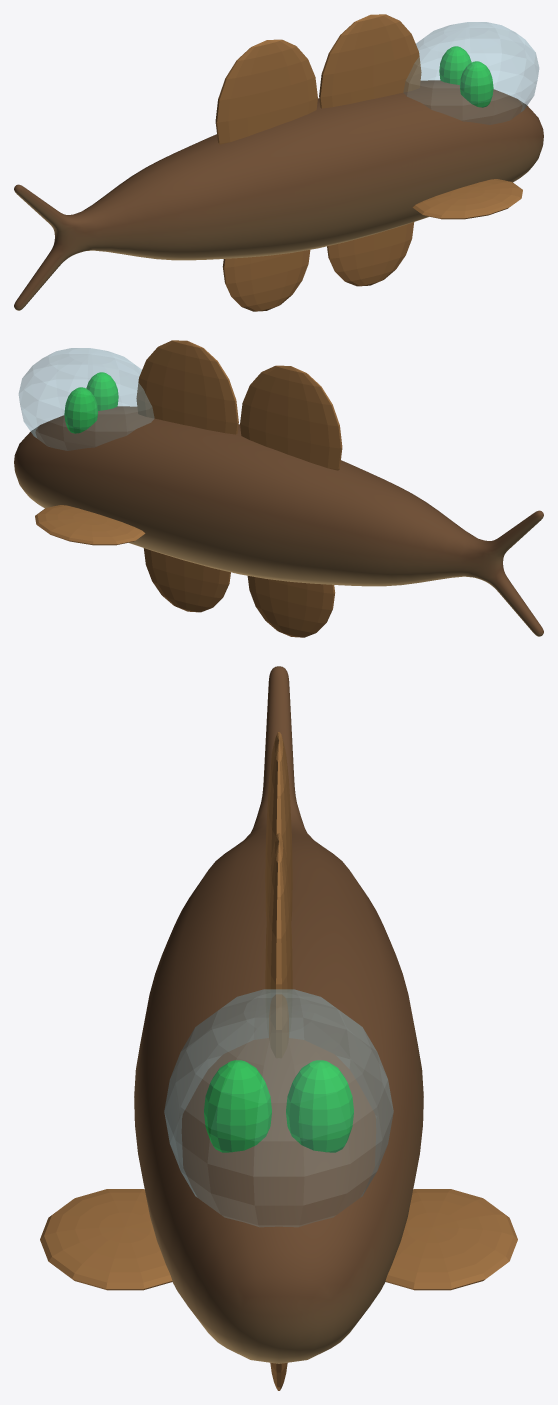
The model's file is peixe_barril.glb.
3 renders of one model, top to bottom at view 1: azimuth 30°, elevation 25°; view 2: azimuth 150°, elevation 25°; view 3: azimuth 270°, elevation 25°, orthographic. The views are drawn at different scales.
Parts seen in each view (by area): view 1: corpo; view 2: corpo; view 3: corpo.
Part boxes in pixels (x1,y1,x2,y2): corpo: (14,14,543,311); corpo: (14,340,543,637); corpo: (40,666,517,1390).
Bounding box in the file's own units: 3.54 × 1.75 × 1.4.
